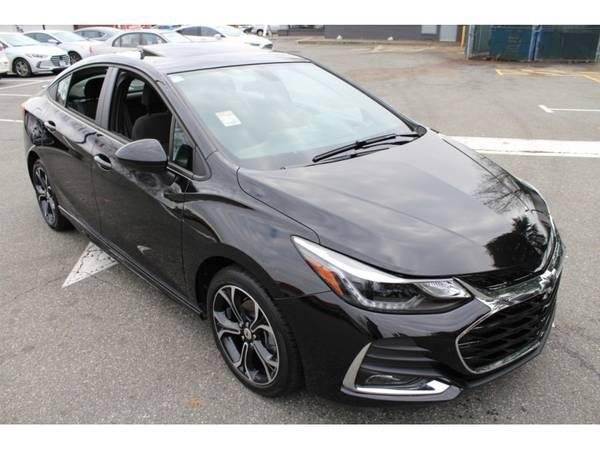Front_Bumper: (279, 288, 487, 402)
Front_Fender: (182, 151, 328, 311)
Front_Right_Door: (91, 130, 191, 307)
Front_Right_Window: (95, 64, 203, 172)
Front_Windshield: (170, 64, 424, 166)
Grille: (456, 205, 564, 381)
Hood: (235, 120, 542, 273)
Rear_Fender: (24, 92, 47, 160)
Rear_Right_Door: (39, 101, 99, 239)
Rear_Right_Window: (47, 62, 112, 127)
Right_Headlight: (294, 233, 476, 315)
Roof: (41, 43, 311, 162)
Wheel: (201, 264, 297, 392), (30, 156, 60, 222)
